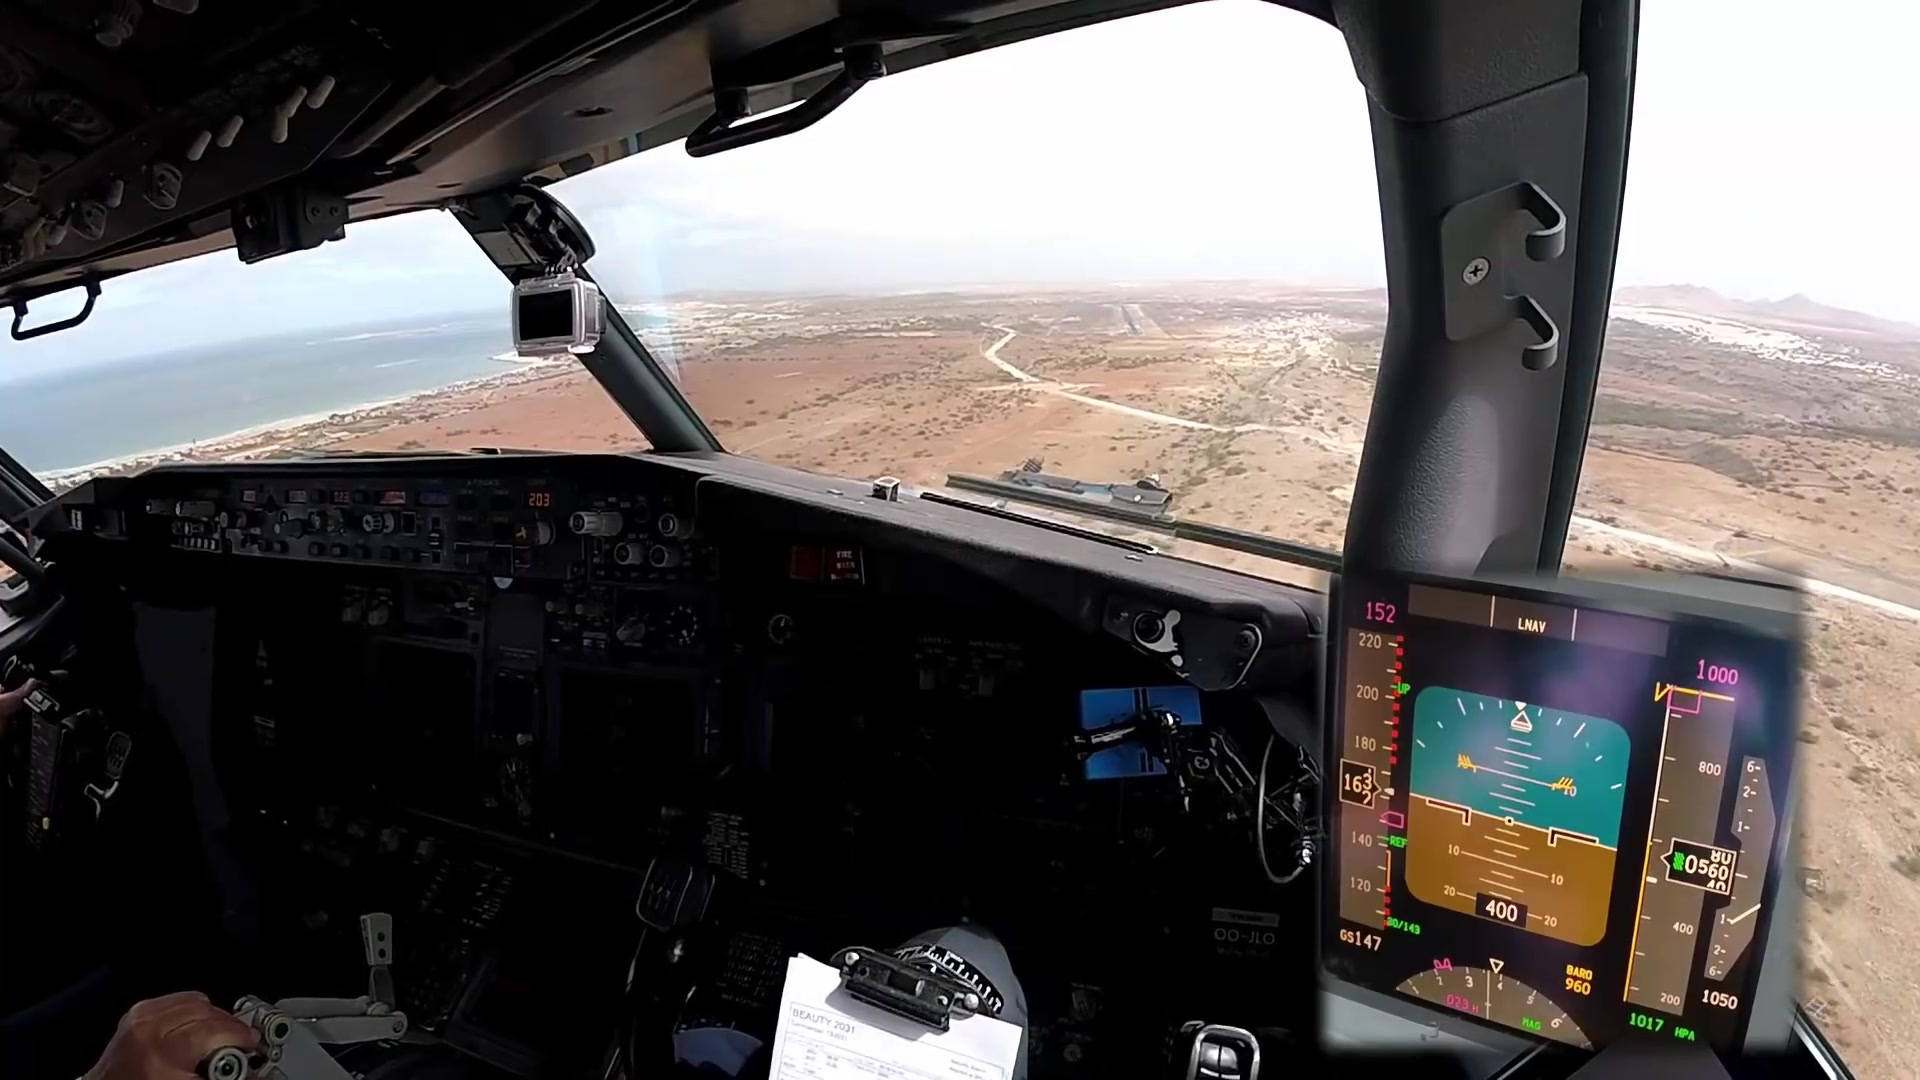runway: (1116, 303, 1147, 336)
